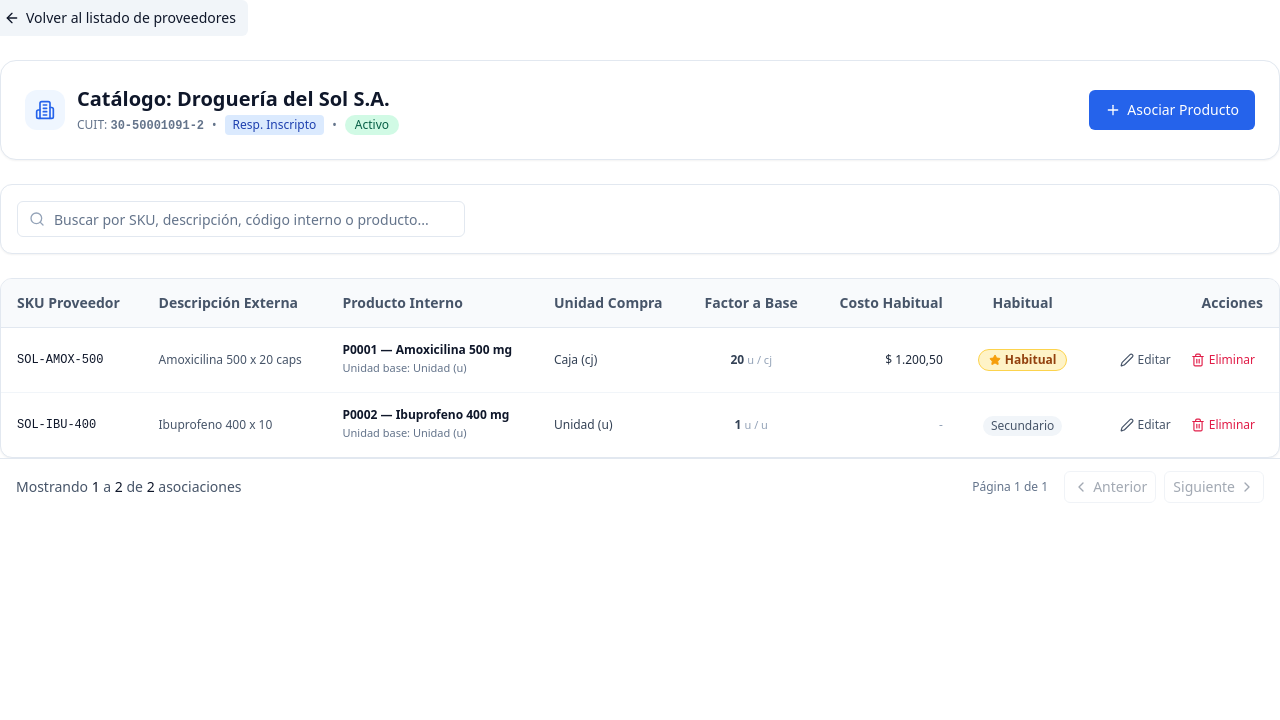
it: SupplierCatalogPage Integration Suite › opens delete modal and confirms physical deletion
The image size is (1280, 720).
Check: the text "SOL-AMOX-500" is shown, box [1,328,142,392]
Click the button "Eliminar" in the row of "SOL-AMOX-500". click: (1223, 360)
box: [1183,344,1263,376]
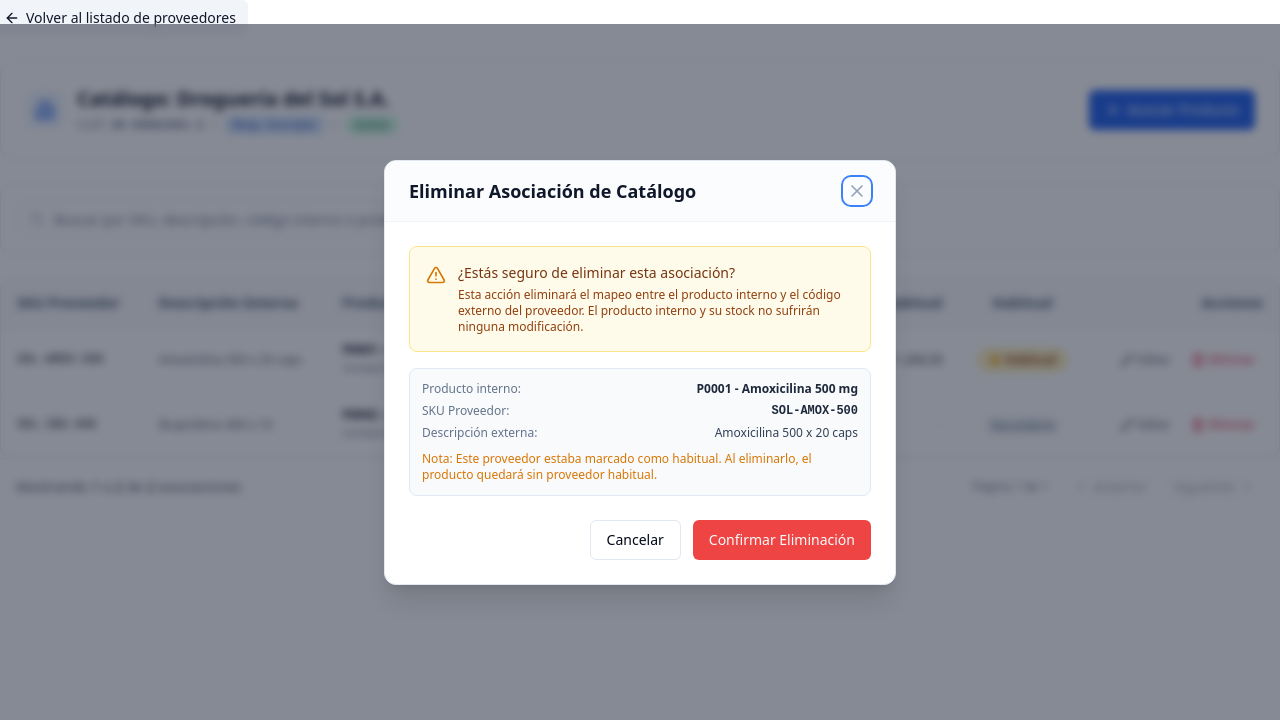
Check: the heading "Eliminar Asociación de Catálogo" is shown, box [409,176,696,204]
Check: the text "¿Estás seguro de eliminar esta asociación?" is shown, box [458,262,735,282]
Click the button "Confirmar Eliminación". click: (782, 540)
box: [693,520,871,560]
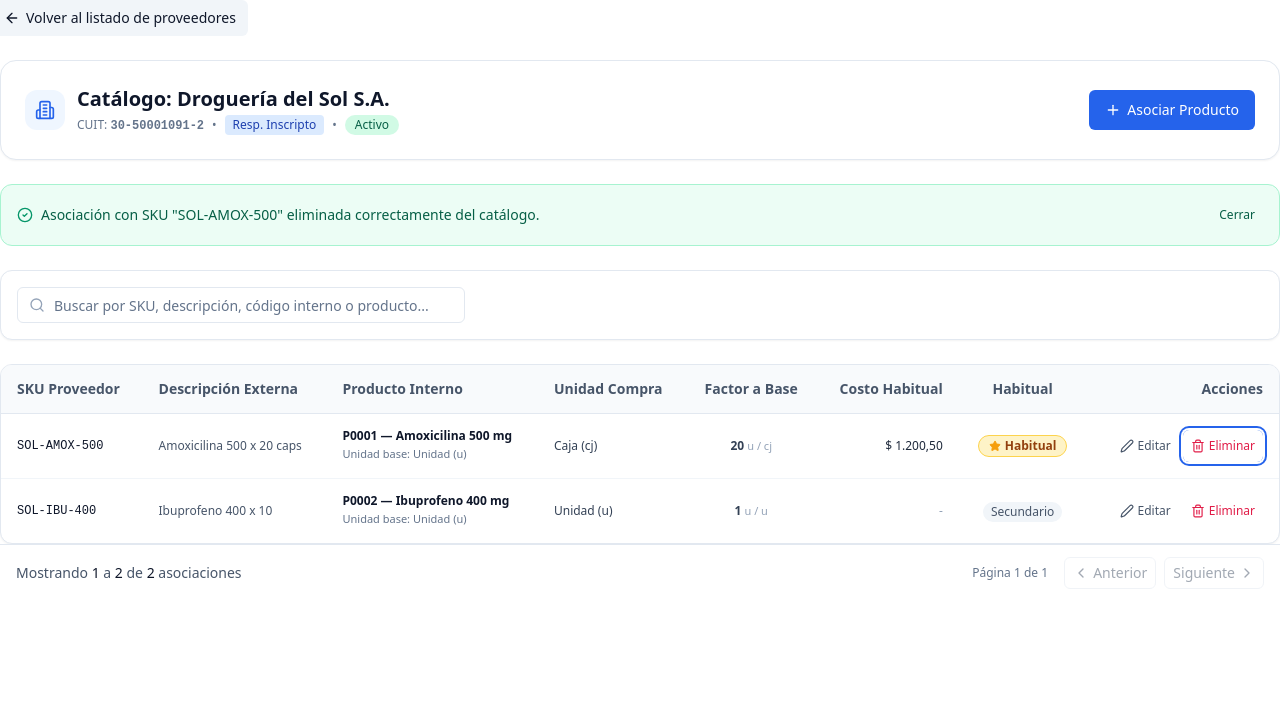
Check: the text "eliminada correctamente" is shown, box [41,205,540,224]
